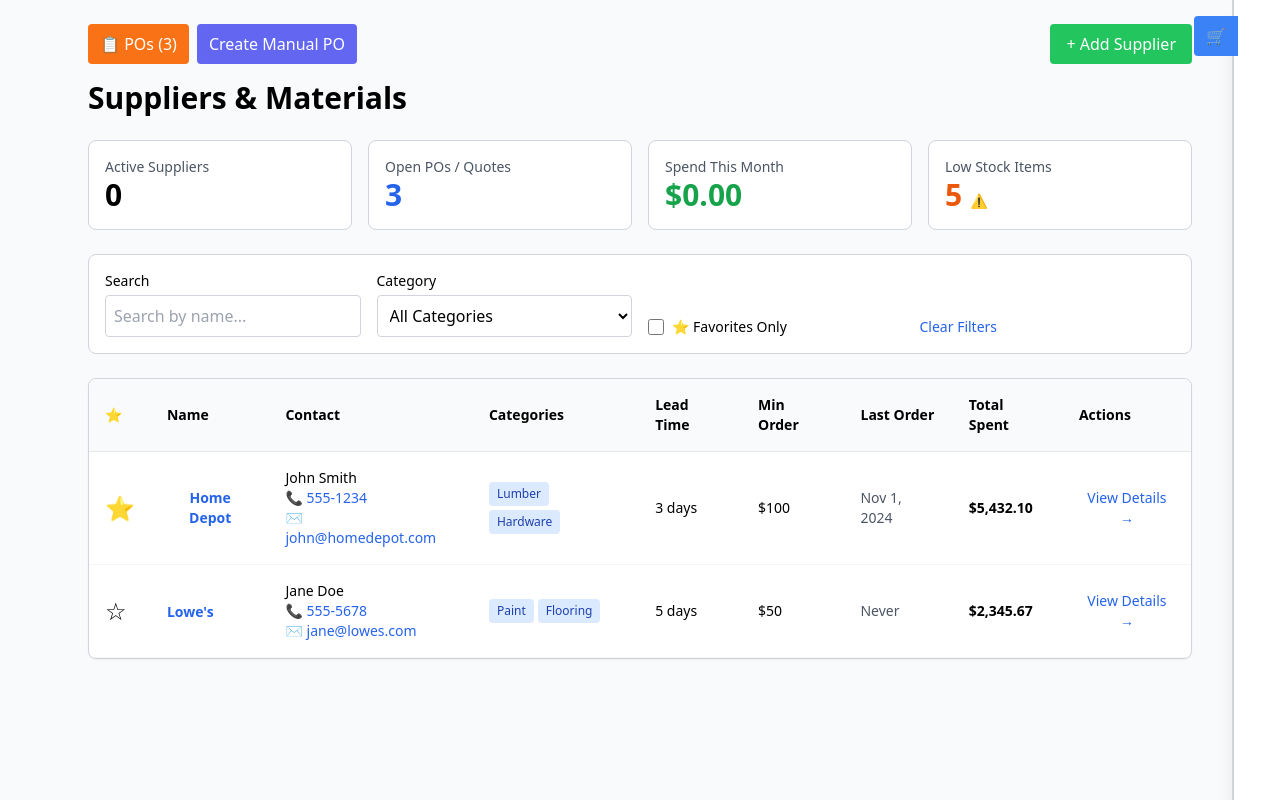
it: Suppliers Component - Phase 1 & Catalog Management (Phase 2D) › should filter favorites only
Click the checkbox labelled "⭐ Favorites Only" at (656, 327), box 648,319 -> 664,335
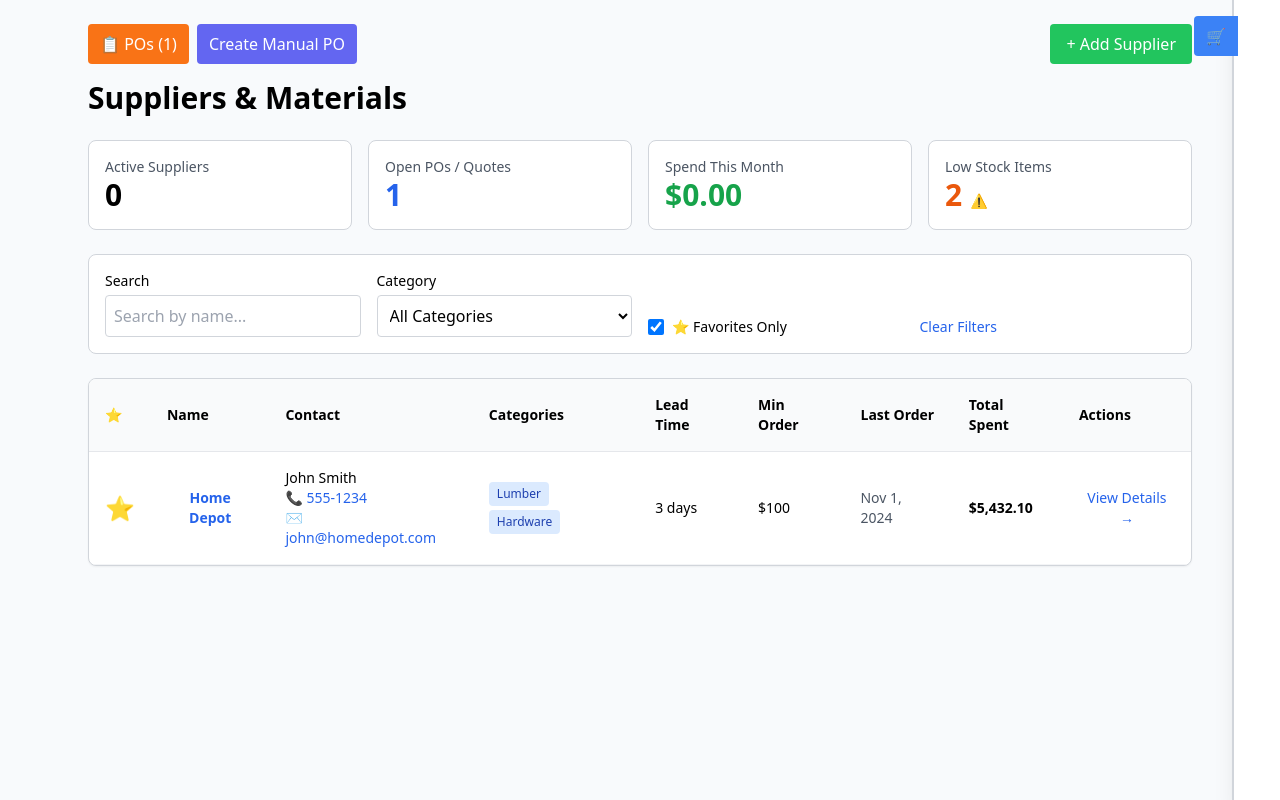
Expected: the button "Lowe's" is gone
